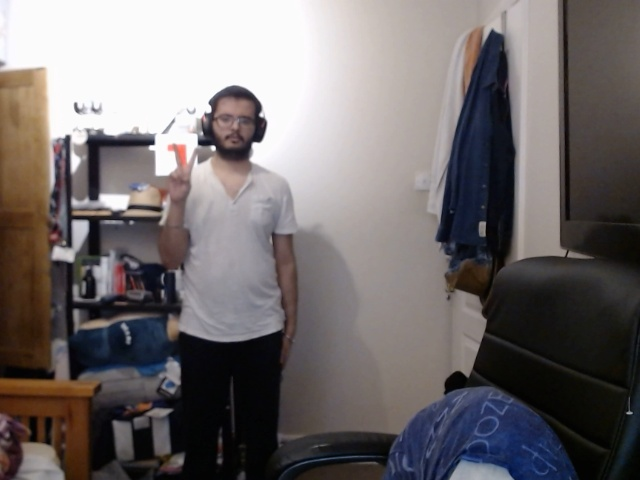Peace: (161, 143, 205, 206)
